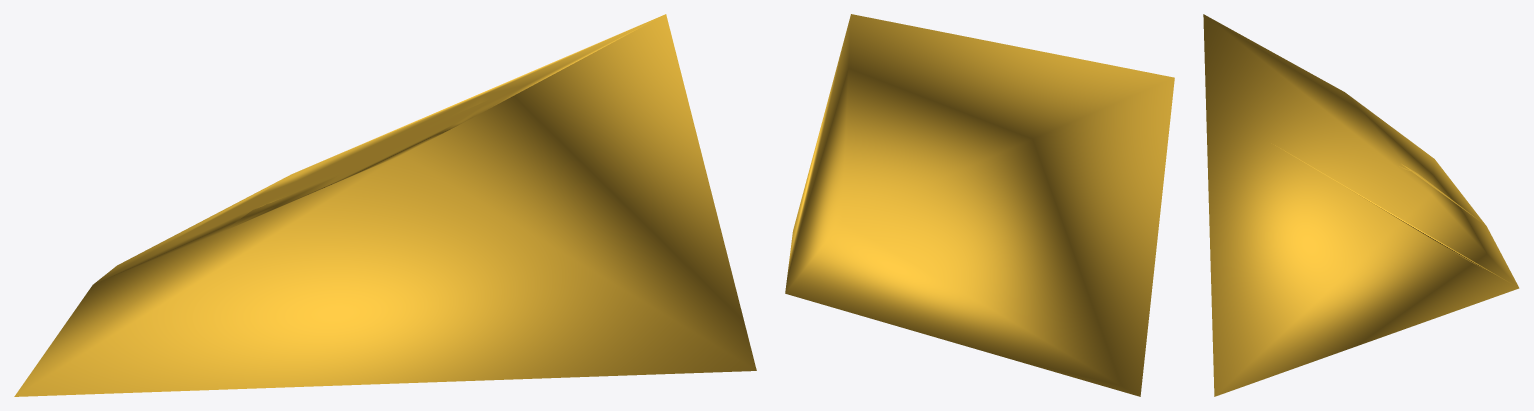
The model's file is lm_wedge.glb.
3 renders of one model, left to right at view 1: azimuth 30°, elevation 25°; view 2: azimuth 150°, elevation 25°; view 3: azimuth 270°, elevation 25°, orthographic. The views are drawn at different scales.
Visible parts, largest first — view 1: body; view 2: body; view 3: body.
Boxes of the visible parts, left/top/right/bottom form: body: left=14, top=14, right=756, bottom=396; body: left=785, top=14, right=1174, bottom=396; body: left=1203, top=14, right=1519, bottom=396.
Size of the model in its own units: 2.2 by 1.22 by 1.47.
Materials: 1 (1 with a texture image).
